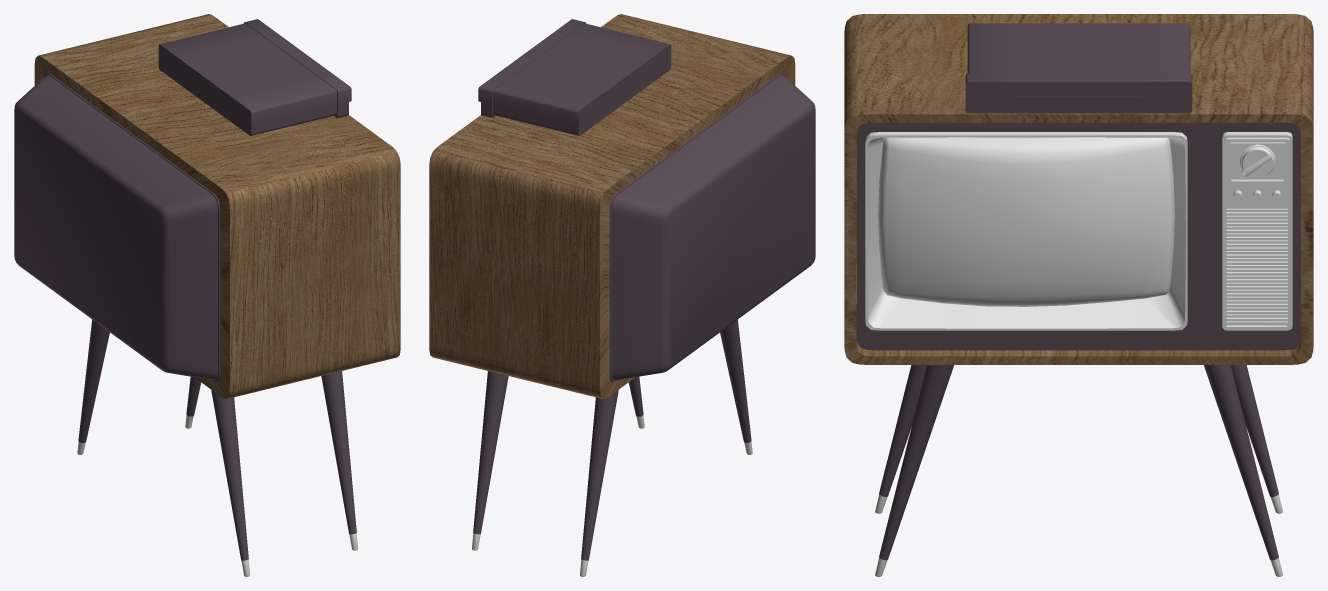
The picture shows the model from 3 angles, left to right: view 1: azimuth 30°, elevation 25°; view 2: azimuth 150°, elevation 25°; view 3: azimuth 270°, elevation 25°; orthographic projection. The views are drawn at different scales.
Parts seen in each view (by area): view 1: TV, VHS Player; view 2: TV, VHS Player; view 3: TV, TV Screen, VHS Player.
Part boxes in pixels (x1,y1,x2,y2): TV: [14, 14, 400, 576]; VHS Player: [158, 19, 351, 135]; TV: [429, 14, 815, 576]; VHS Player: [478, 19, 671, 135]; TV: [844, 14, 1313, 576]; TV Screen: [878, 137, 1174, 306]; VHS Player: [965, 23, 1192, 113].
Bounding box in the file's own units: 0.7646 × 1.43 × 1.18.
4 materials, 1 textured.
